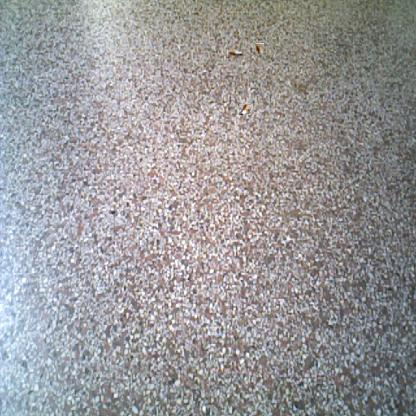dirty: (238, 102, 252, 114), (254, 44, 265, 54), (227, 50, 242, 57)
